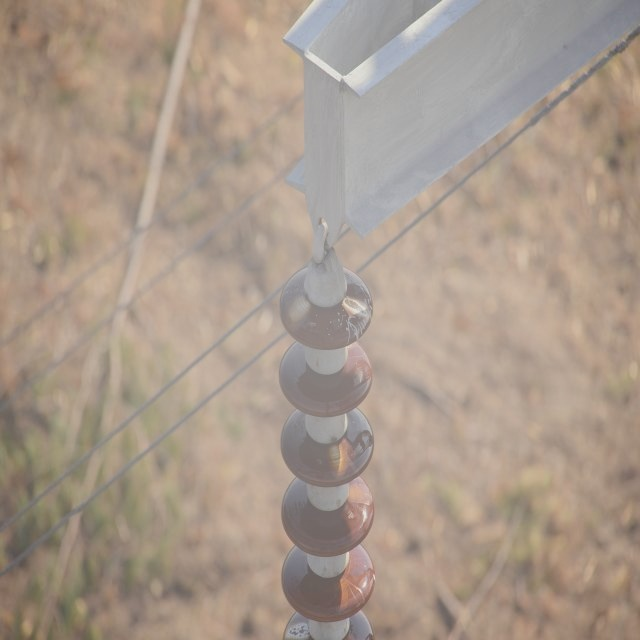insulator: (278, 264, 377, 640)
